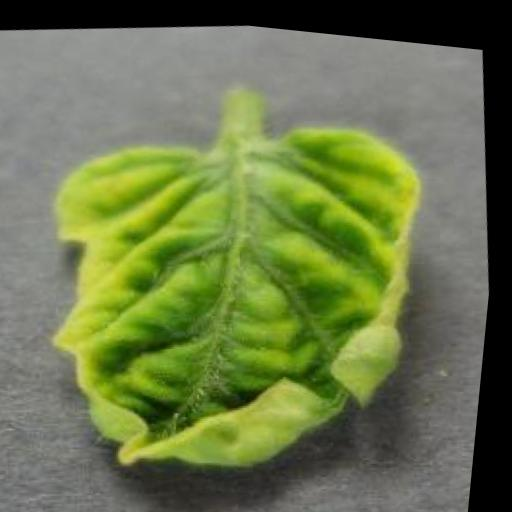Yellow Leaf Curl Virus: (22, 83, 462, 498)
